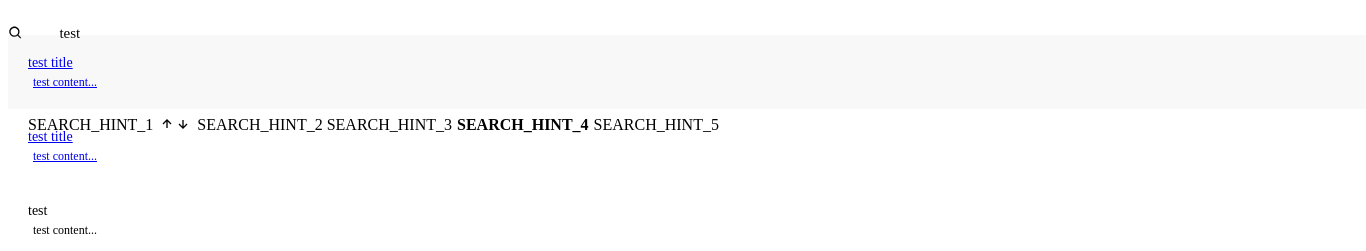
Test case: Search › should not show results on mouse down input
The image size is (1366, 251).
Press the mouse on the field with test id "search-input" at coordinates (691, 33), box [23, 16, 1358, 50]
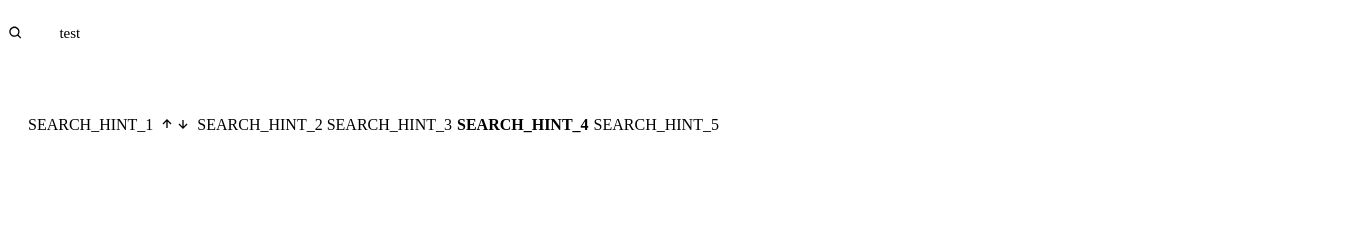
Expected: no elements with test id "search-result" are shown
